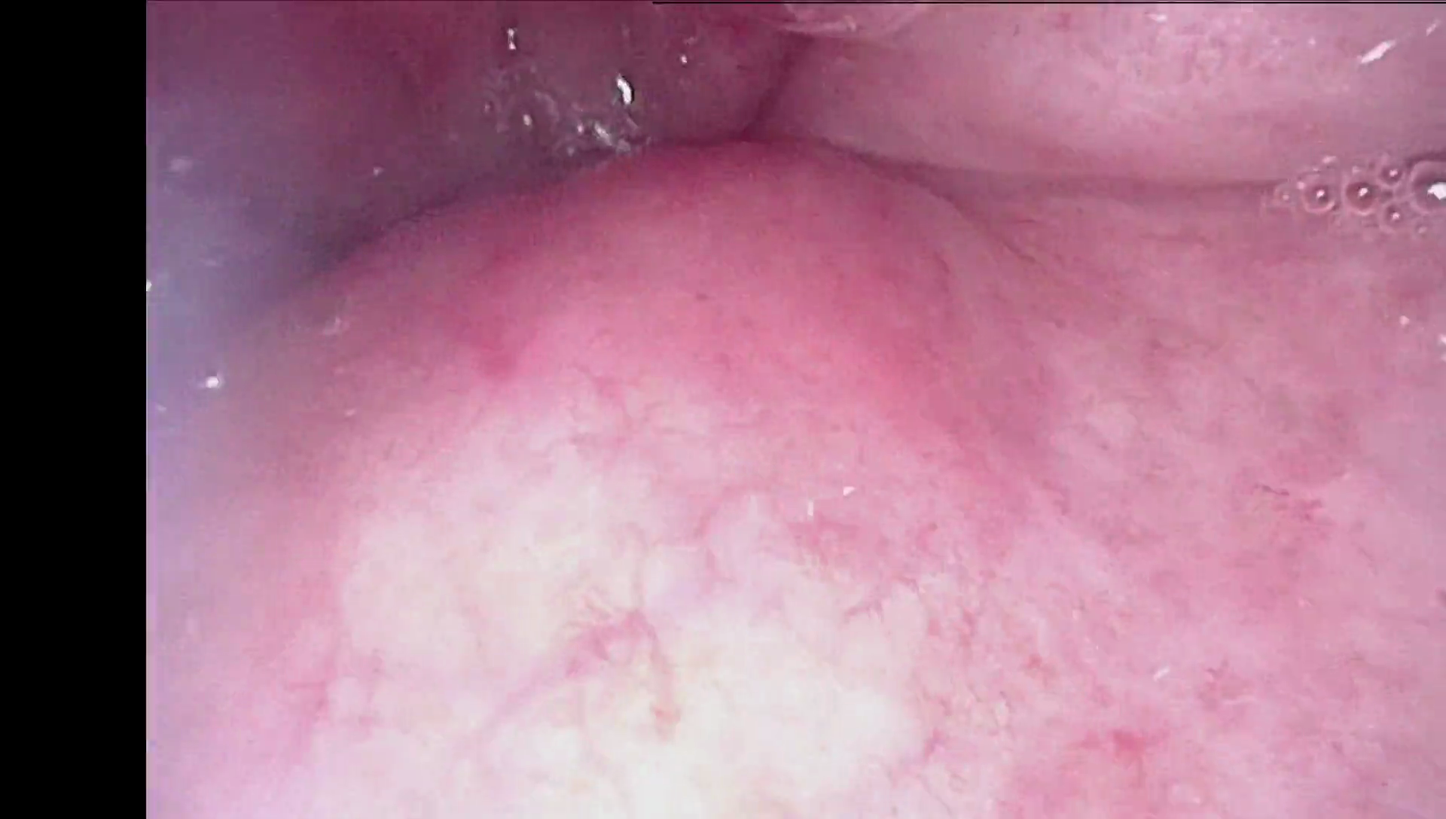close_wall: (313, 333, 1133, 819)
